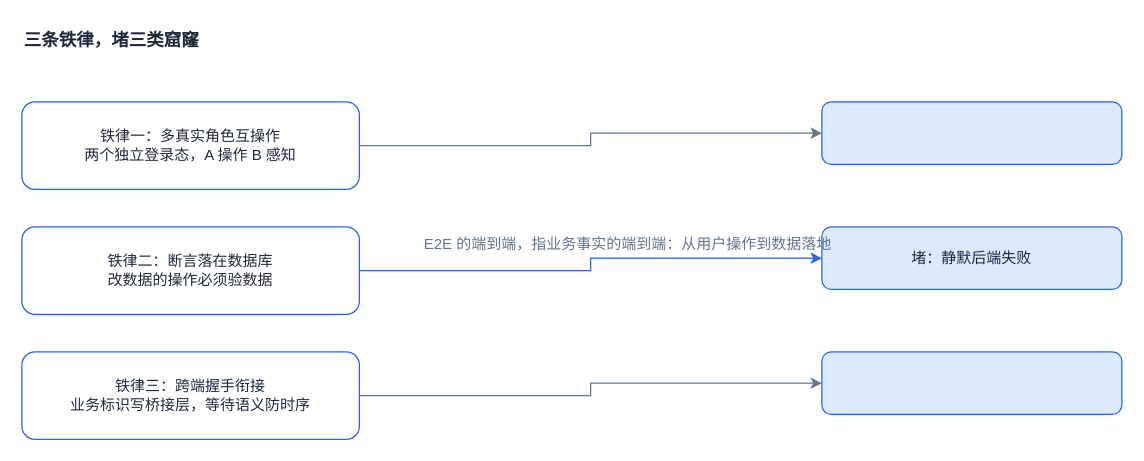
This 1144x461 diagram has some shape labels left out. Each missing label, with the box of its shape:
堵：角色流转盲区: (821, 101, 1122, 164)
堵：跨端数据断裂: (821, 351, 1122, 414)
